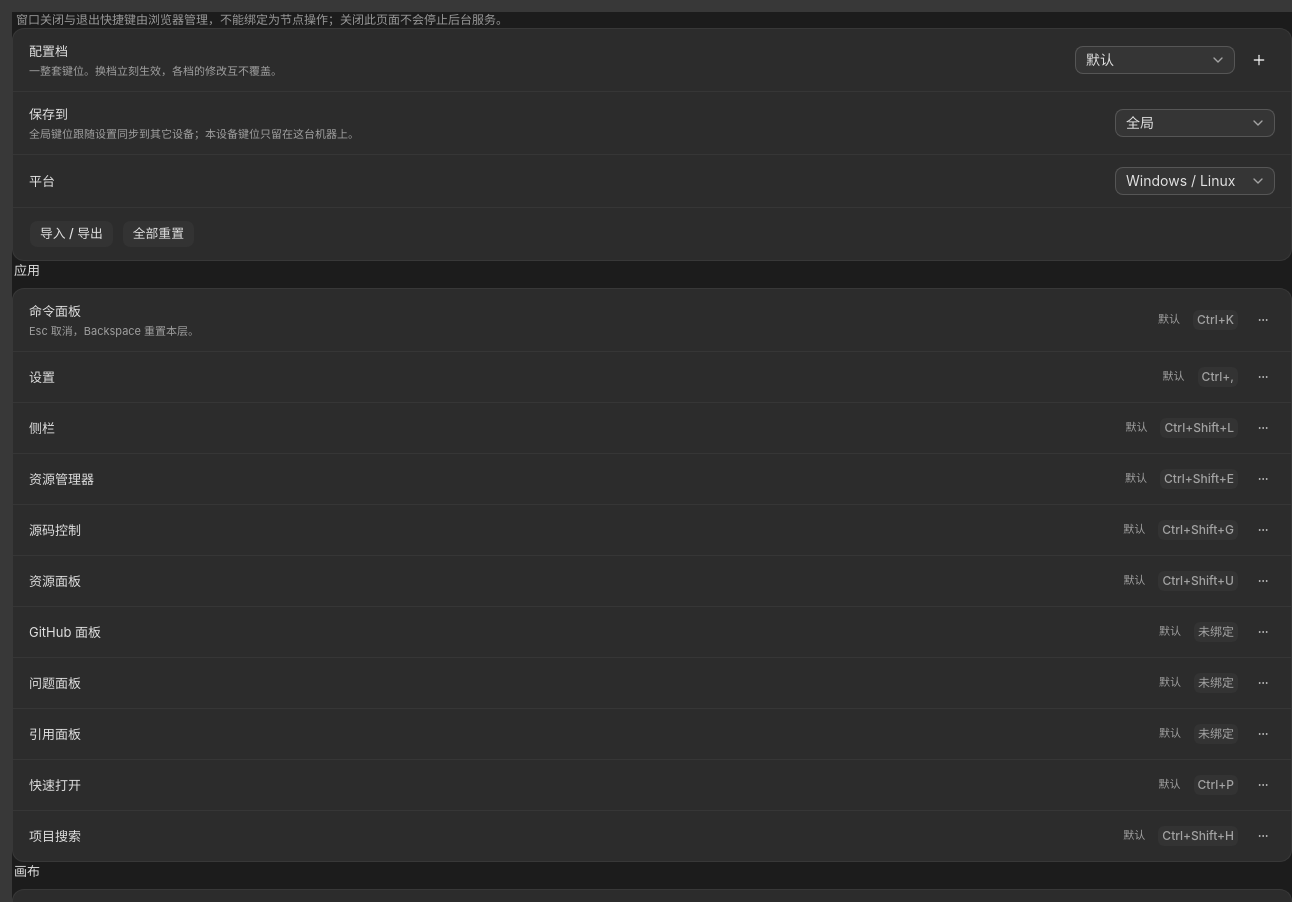
Scenario: KeybindingsPage › 另一个平台是只读预览，看得到它自己的键位
Click the dropdown "Windows / Linux": (1195, 181) [1115,167,1275,195]
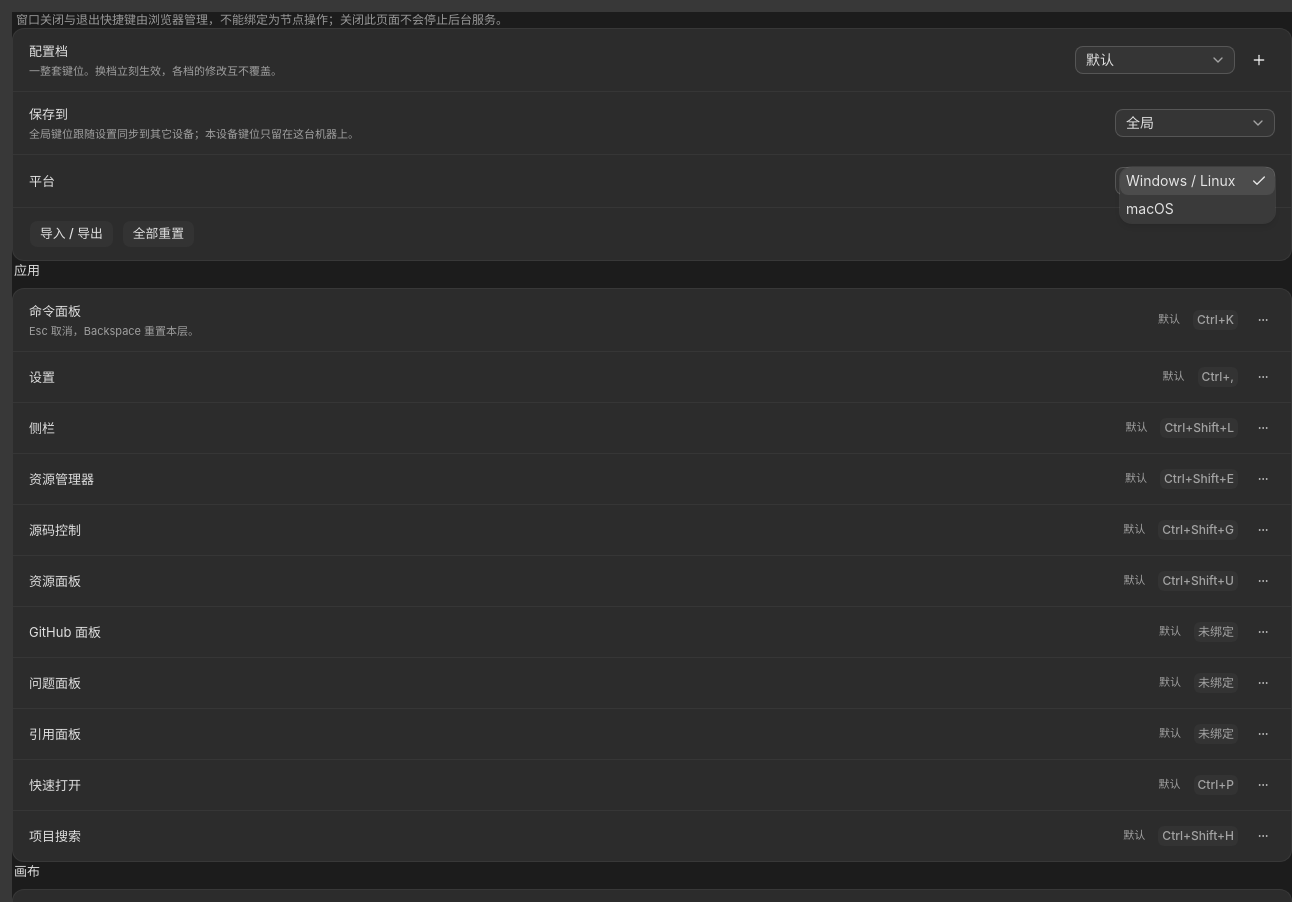
Click the option "macOS": (1150, 208) [1126,200,1174,217]
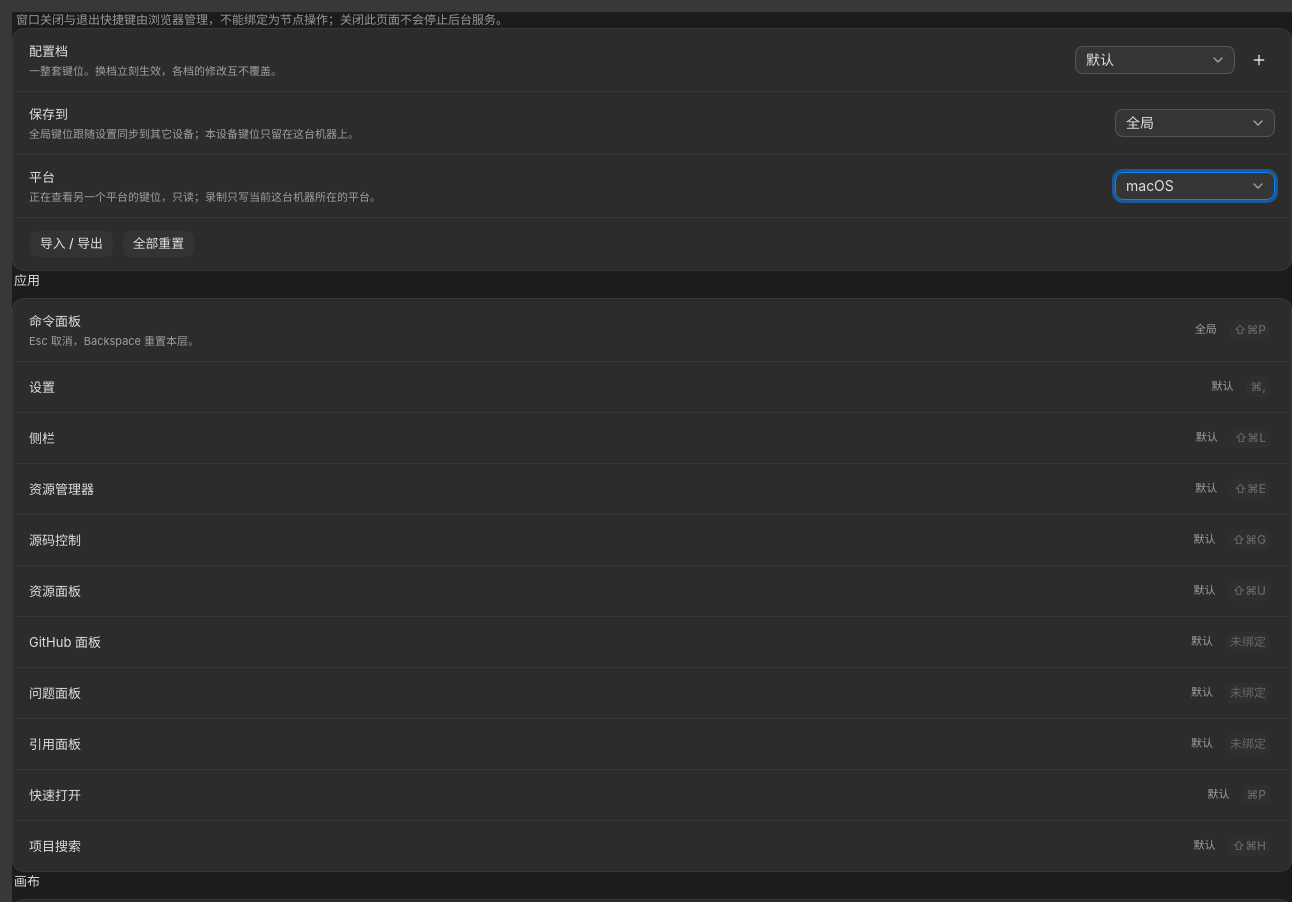
Check: the element labelled "命令面板" shows "全局", box [1195,322,1217,336]
Check: the text "正在查看另一个平台的键位，只读；录制只写当前这台机器所在的平台。" is shown, box [29,189,381,205]
Check: the button named "命令面板" is disabled, box [1225,317,1275,343]
